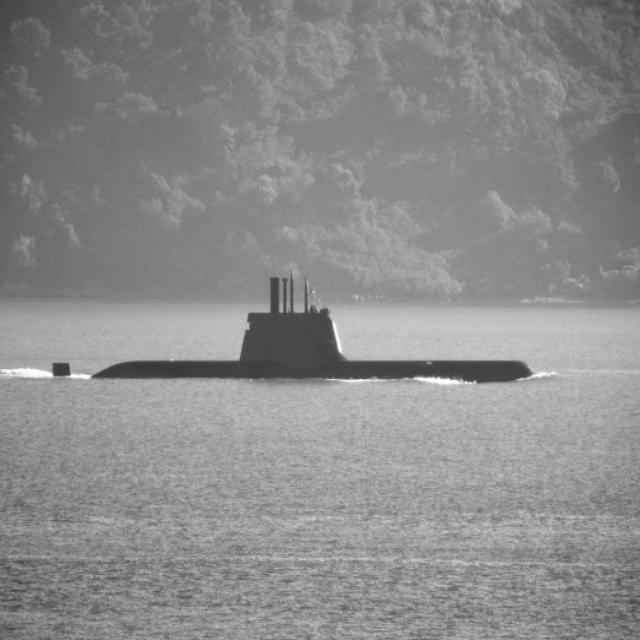submarine: (47, 266, 554, 390)
